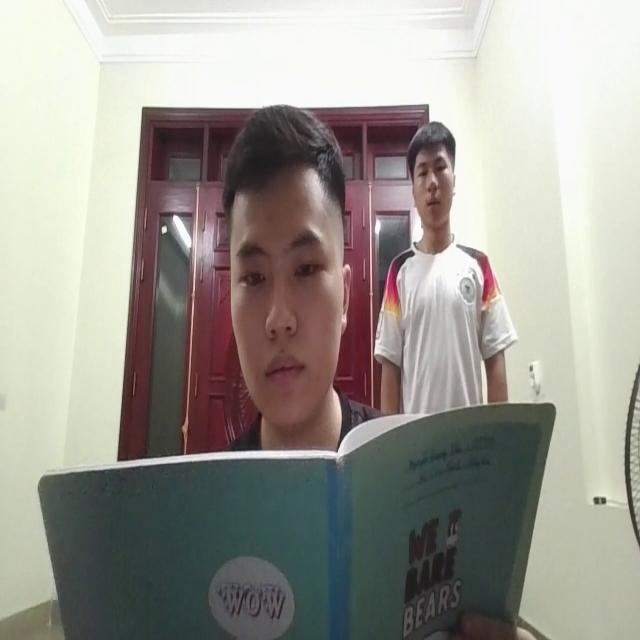book: (51, 404, 551, 640)
extra_person: (390, 119, 500, 416)
student: (226, 97, 356, 437)
